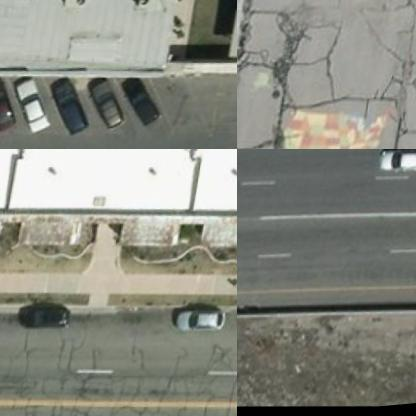car: (87, 76, 136, 136), (12, 76, 60, 136), (50, 76, 98, 136), (121, 75, 168, 133), (17, 298, 73, 334), (178, 303, 233, 339), (0, 71, 29, 132), (381, 149, 415, 177)
